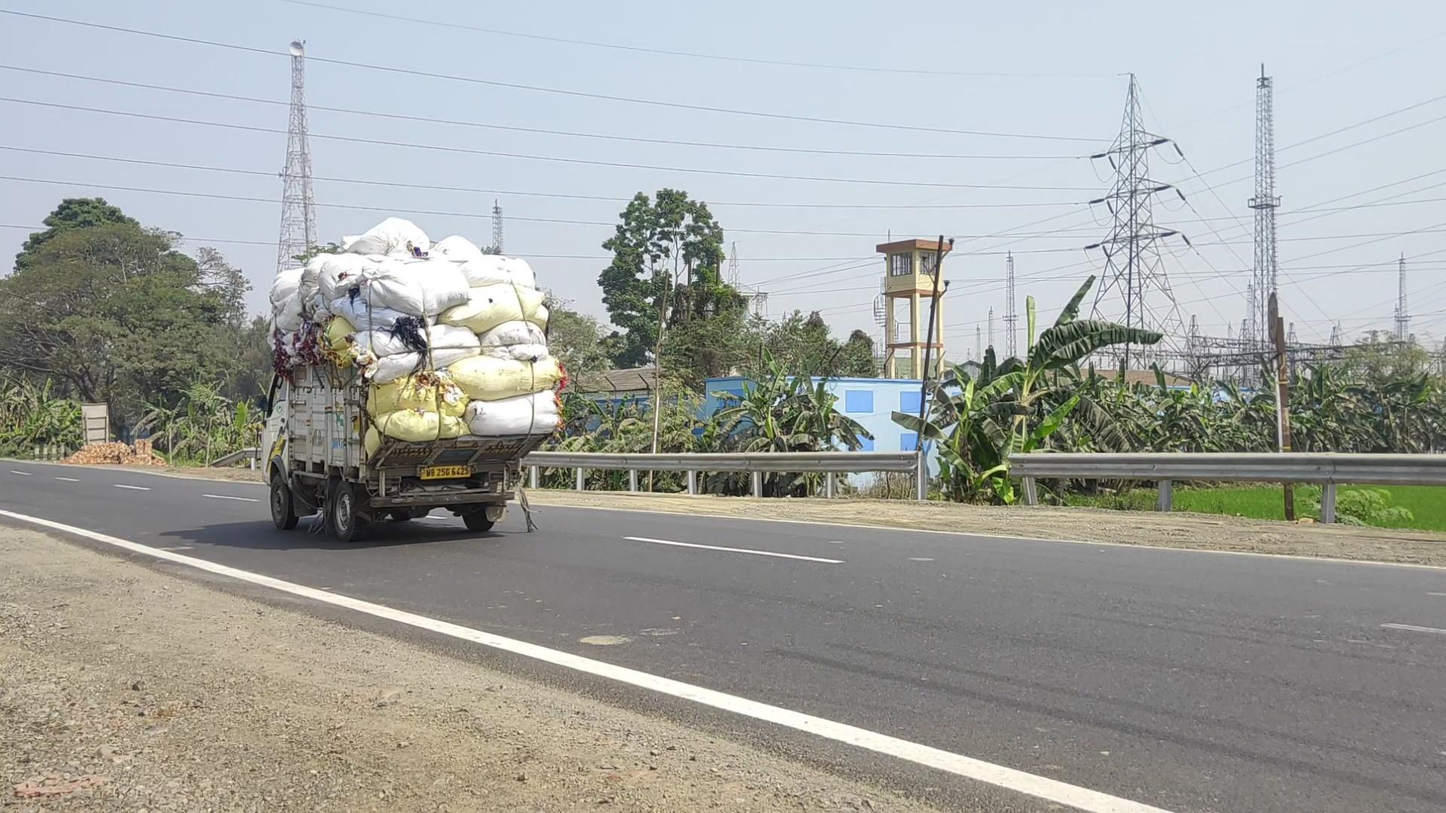van: (255, 218, 562, 543)
